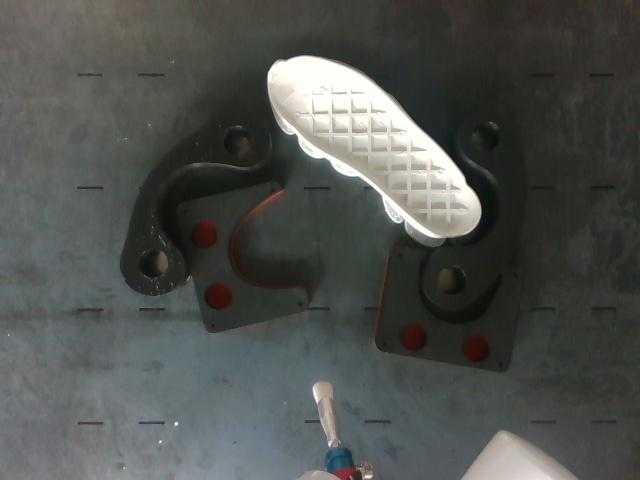shoes: (269, 56, 482, 238)
